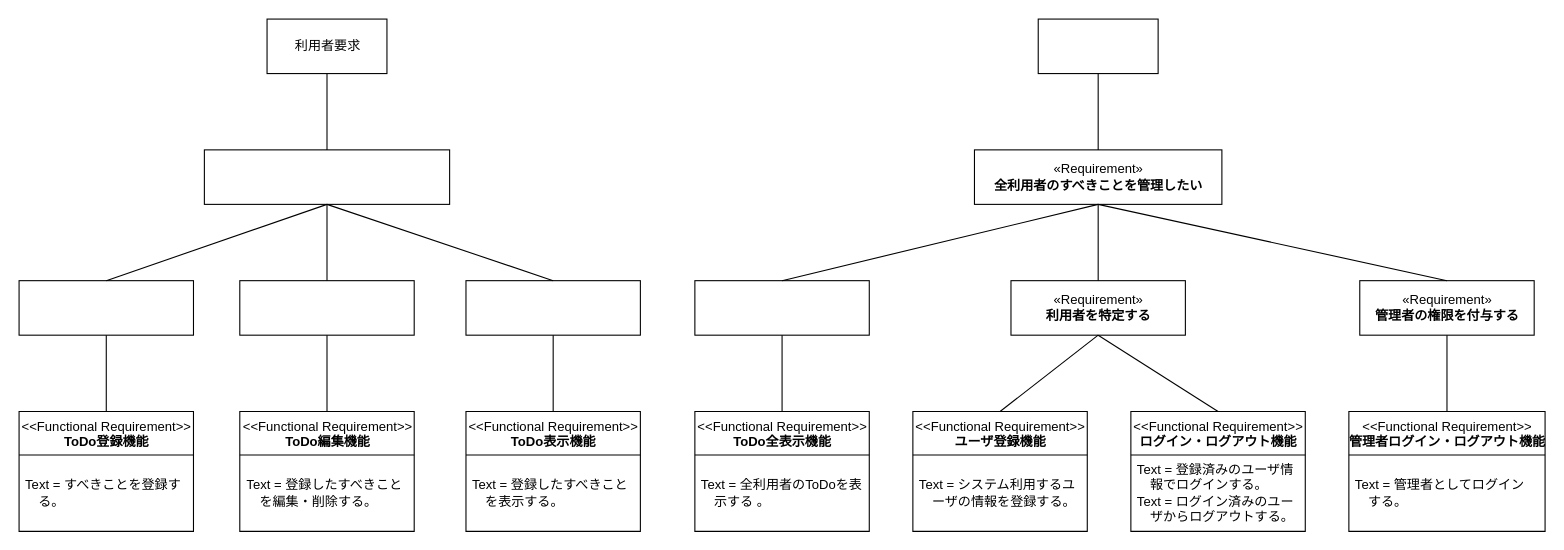
This 1564x550 diagram has some shape labels left out. Here are the shapes that lost their labels. From the top down, the centre of each, then its label:
the point at 1097,46: 管理者要求
the point at 326,176: «Requirement» すべきことを管理したい
the point at 105,307: «Requirement» すべきことを登録する
the point at 326,307: «Requirement» すべきことを管理する
the point at 552,307: «Requirement» すべきことを表示する
the point at 781,307: «Requirement» 全利用者の すべきことを表示する
